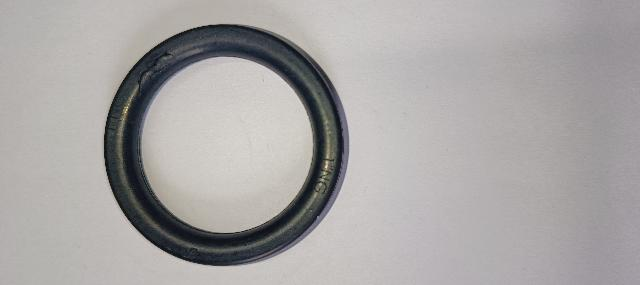4: (176, 248, 199, 261)
scratch: (134, 51, 176, 100)
